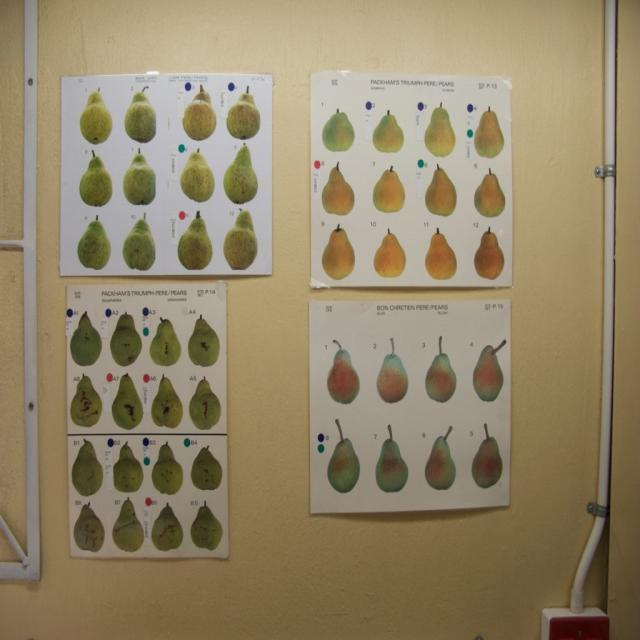Pear: (221, 143, 258, 208), (328, 413, 358, 493), (178, 204, 214, 270), (327, 333, 360, 405), (472, 333, 508, 399), (469, 422, 503, 490), (424, 333, 456, 405), (375, 422, 408, 490), (177, 147, 215, 206), (319, 222, 357, 280), (224, 209, 260, 270), (122, 144, 157, 206), (426, 425, 459, 490), (73, 435, 106, 499), (79, 84, 113, 146), (378, 333, 407, 405), (146, 438, 183, 494), (111, 373, 146, 431), (182, 85, 217, 143), (77, 214, 113, 270), (423, 227, 459, 283), (79, 148, 112, 209), (227, 84, 262, 140), (125, 83, 157, 144), (319, 158, 355, 212), (69, 370, 102, 428), (110, 498, 143, 556), (187, 312, 222, 366), (473, 224, 505, 283), (124, 212, 156, 270), (109, 312, 143, 366), (149, 374, 183, 428), (374, 225, 408, 277), (472, 166, 506, 218), (152, 499, 183, 555), (426, 160, 457, 216), (372, 163, 406, 214), (424, 100, 454, 156), (71, 311, 101, 366), (113, 439, 143, 493), (150, 315, 181, 367), (320, 107, 356, 151), (190, 377, 221, 428), (192, 441, 222, 493), (192, 502, 224, 550), (371, 108, 405, 153), (473, 108, 503, 159), (74, 502, 104, 552)
